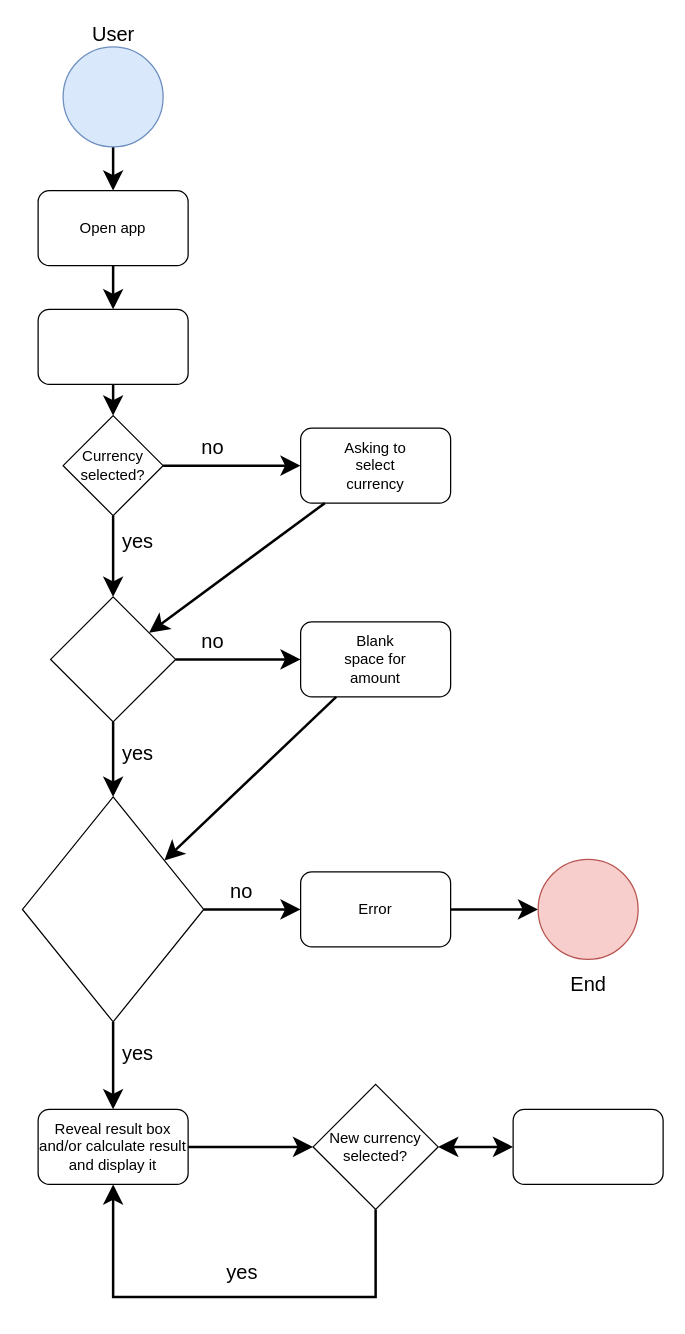
Some shapes in this 685 by 1334 pixel diagram are drawn without their labels. Each missing label, with the centre of its shape:
BitCoin amount inserted?: pixel 112 659
Display menu: pixel 112 346
Waiting input: pixel 587 1146
Were both fields filled correctly before clicking "Get Rates" button?: pixel 112 909
